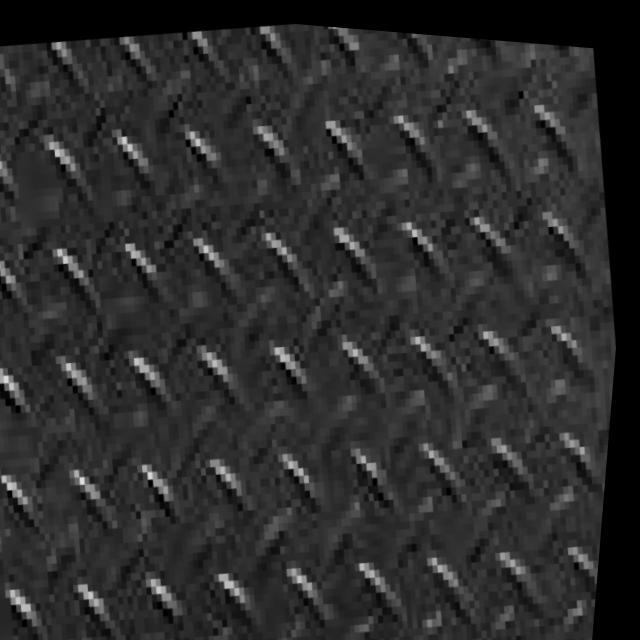metal-plates: (1, 20, 622, 640)
